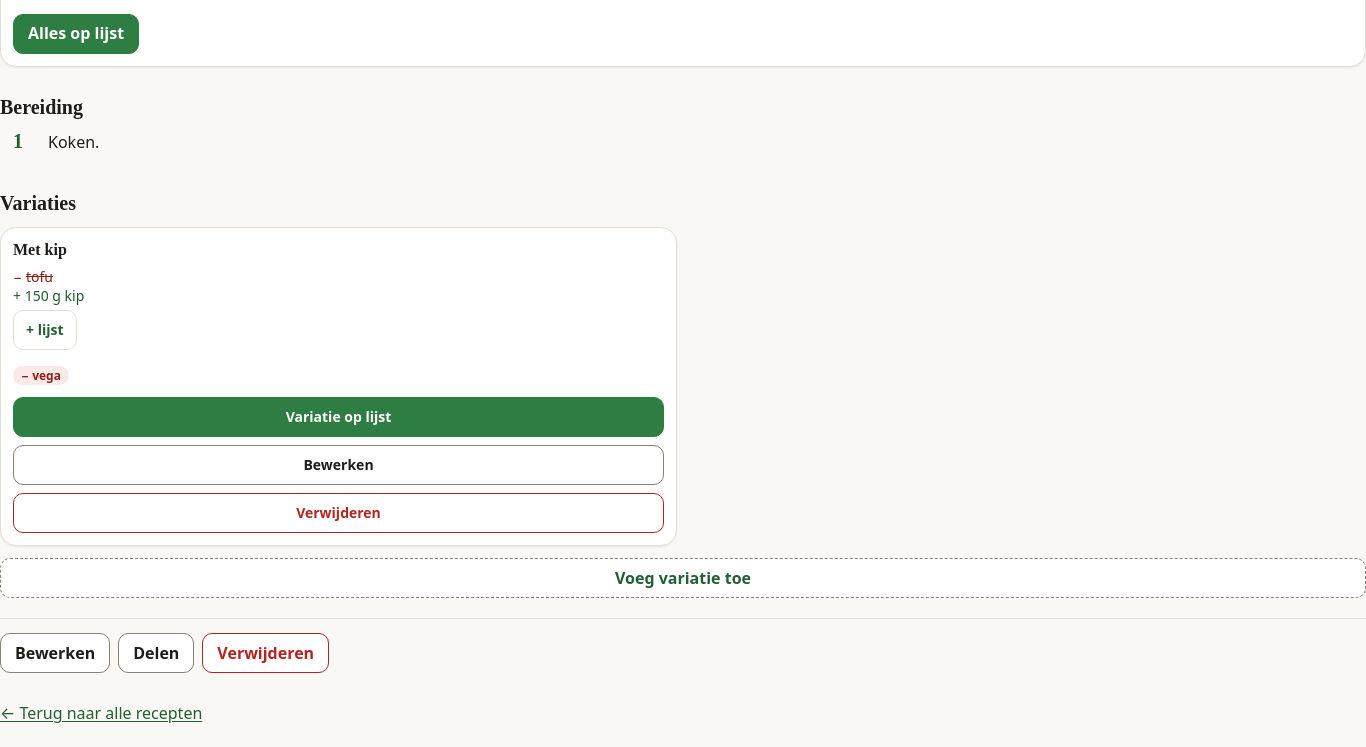
Scenario: RecipeDetailView: tags en variaties › verwijderen is een verzoek met reden; de kaart verdwijnt
The image size is (1366, 747).
(page scrolled)
Step 1. Click the button "Verwijderen" below "− vega" → (338, 513), box x1=13 y1=493 x2=664 y2=533
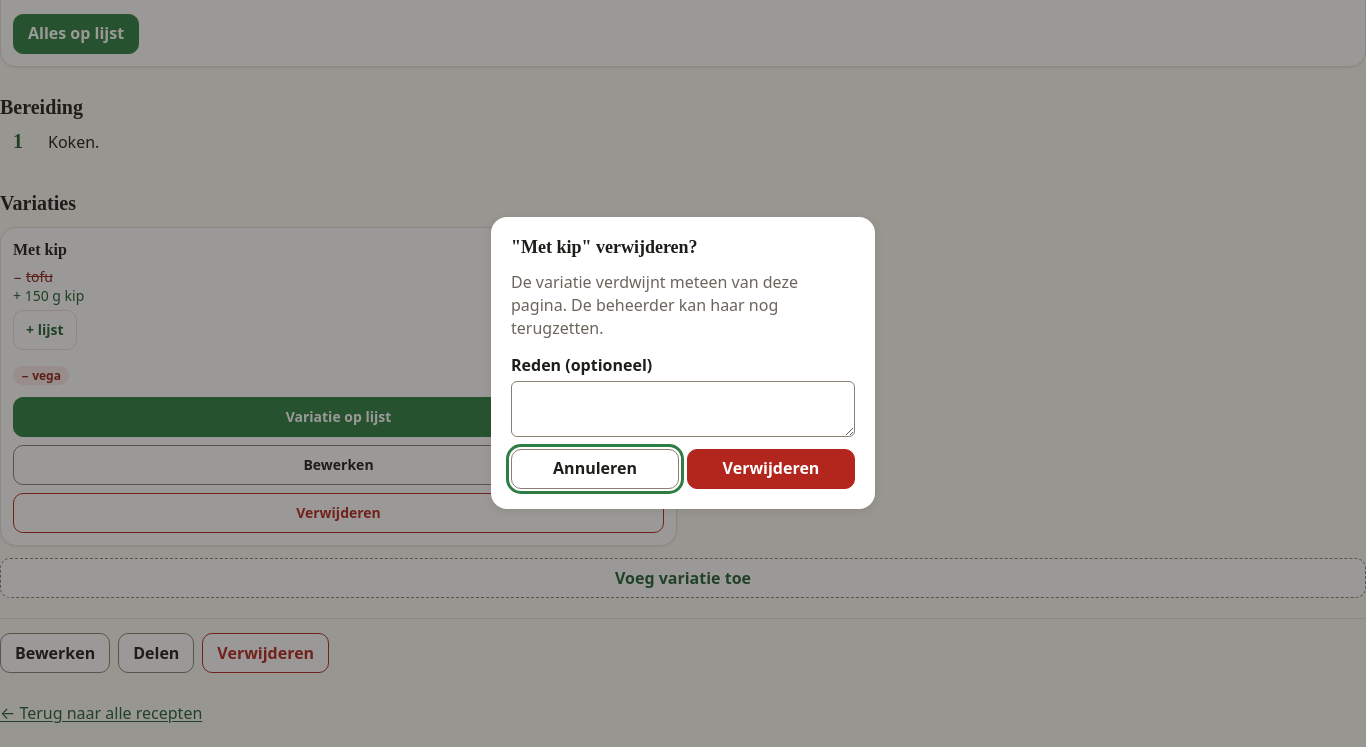
Expected: the heading "\"Met kip\" verwijderen?" reads "\"Met kip\" verwijderen?", x1=511 y1=237 x2=698 y2=257
Step 2. Type "dubbel" into the text box labelled "Reden (optioneel)" → (683, 409), box x1=511 y1=381 x2=855 y2=437
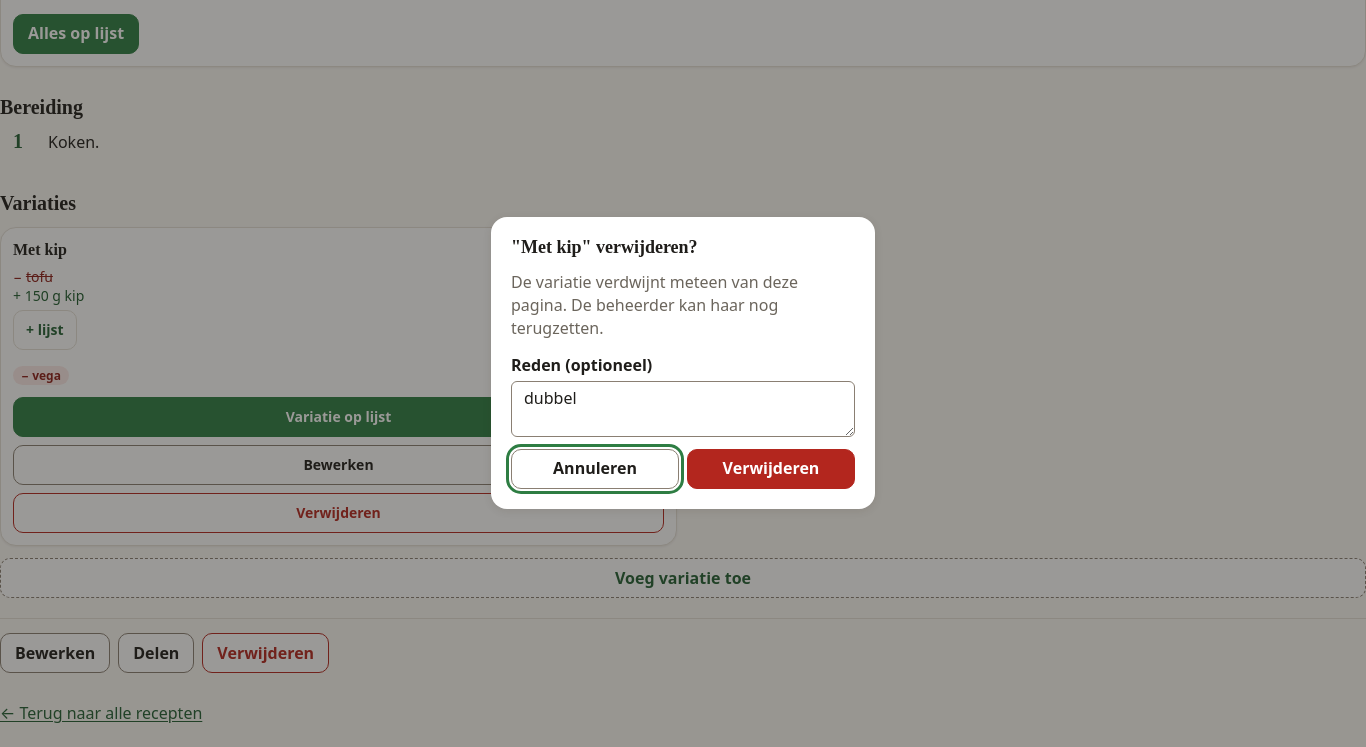
Step 3. Click the button with class "confirm" → (771, 469), box x1=687 y1=449 x2=855 y2=489
(page scrolled)
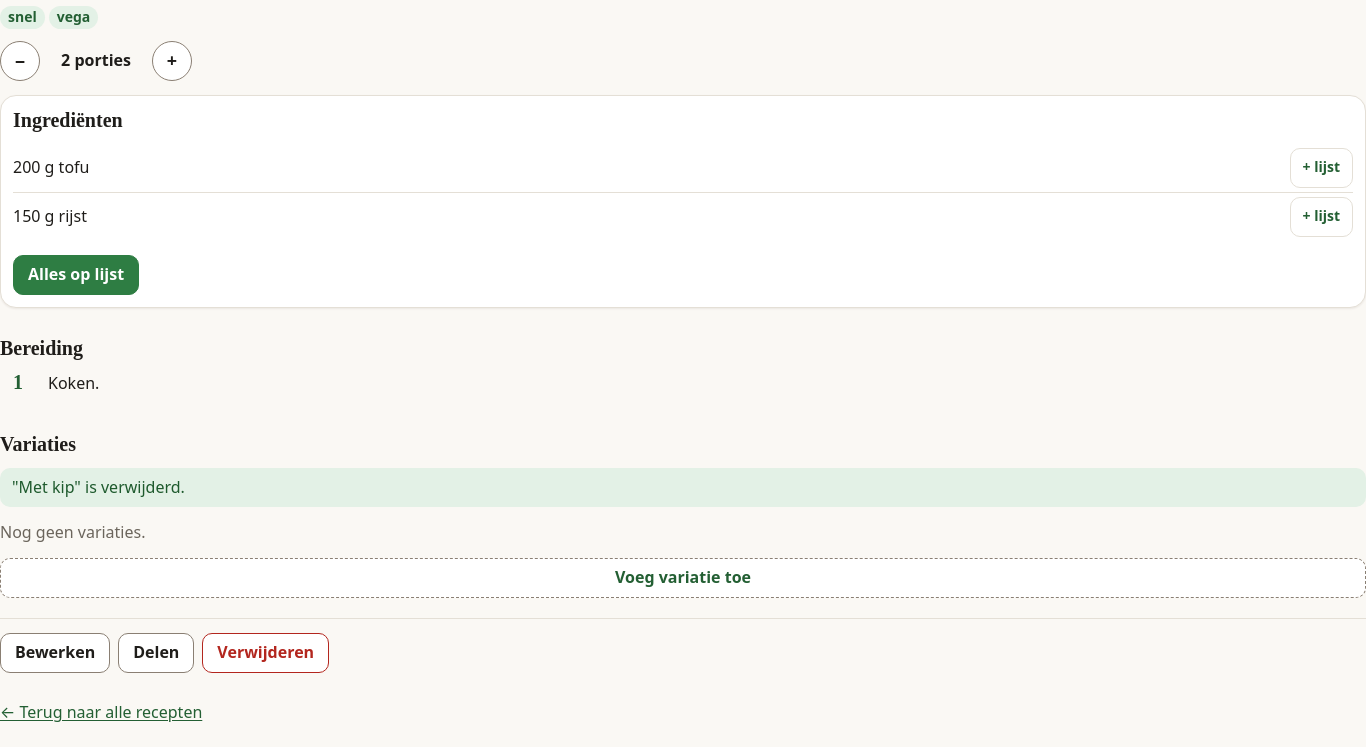
Expected: the message "\"Met kip\" is verwijderd." reads "\"Met kip\" is verwijderd.", x1=12 y1=476 x2=185 y2=498
